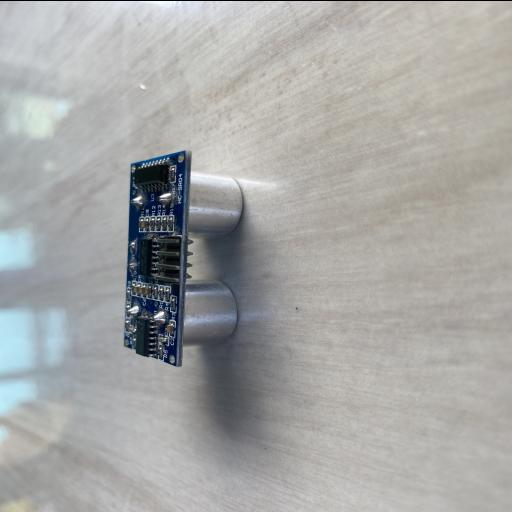Ultrasonic Sensor: (122, 149, 244, 367)
